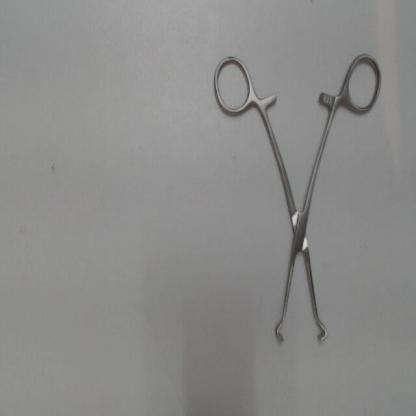Babcock Tissue Forceps: (209, 48, 386, 348)
